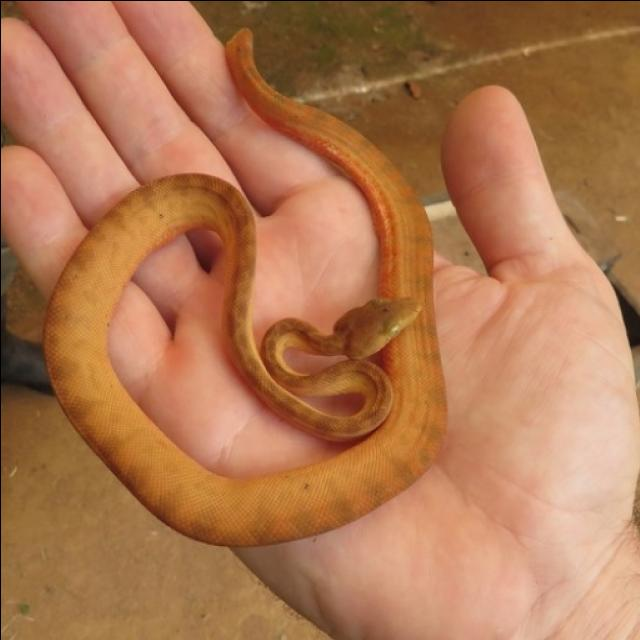snake: (29, 18, 462, 554)
